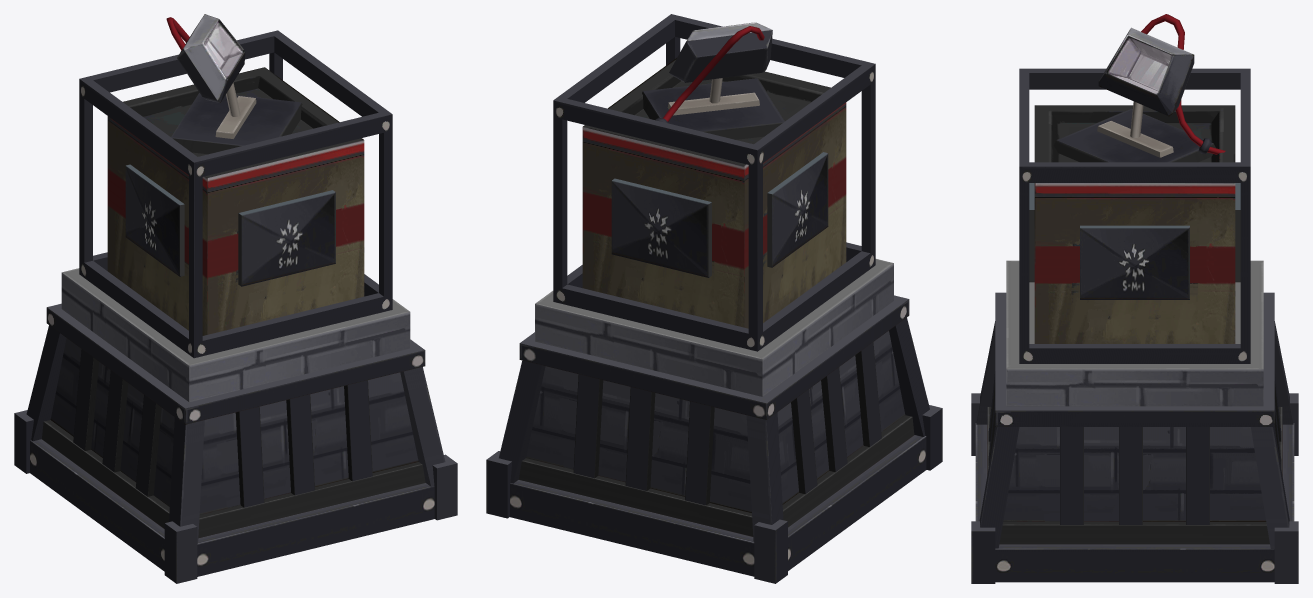
Rendered from trap_458_xbbarir.fbx.
3 renders of one model, left to right at view 1: azimuth 30°, elevation 25°; view 2: azimuth 150°, elevation 25°; view 3: azimuth 270°, elevation 25°, orthographic. The views are drawn at different scales.
Visible parts, largest first — view 1: trap_458_xbbarir; view 2: trap_458_xbbarir; view 3: trap_458_xbbarir.
Boxes of the visible parts, <box> form: trap_458_xbbarir: <box>14,14,457,583</box>; trap_458_xbbarir: <box>486,14,942,583</box>; trap_458_xbbarir: <box>971,14,1298,583</box>.
Size of the model in its own units: 0.8219 by 1.32 by 0.8219.
1 material, 1 textured.
